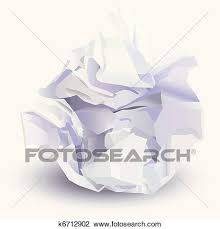crumpled paper: (20, 46, 208, 197)
